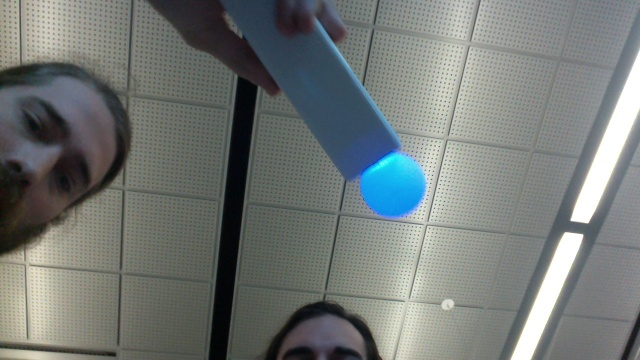wand: (361, 157, 426, 219)
